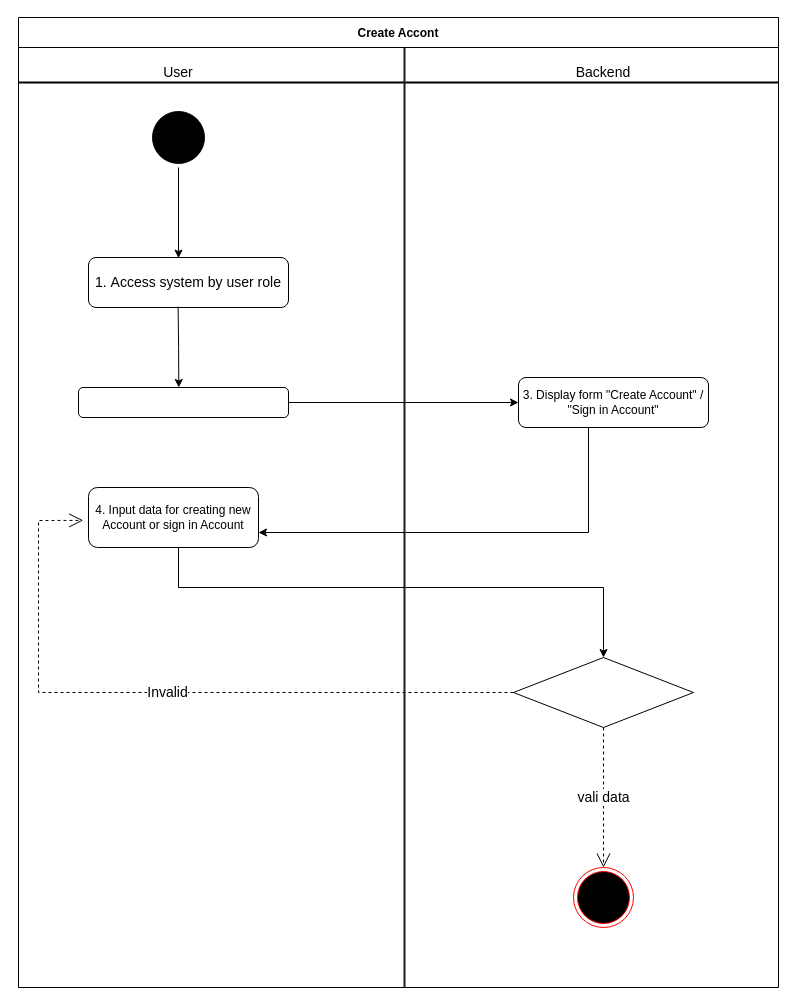
Some shapes in this 796 by 1006 pixel diagram are drawn without their labels. Here are the shapes that lost their labels. From the top down, the box of each, then its label:
(78, 386, 288, 418): 2. Select Log in / Sign in
(512, 656, 694, 728): 5. Validate data
